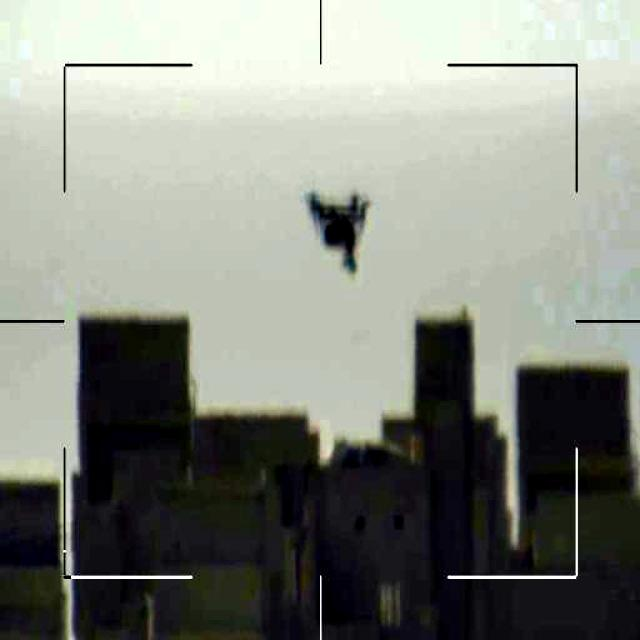bird: (296, 184, 375, 279)
